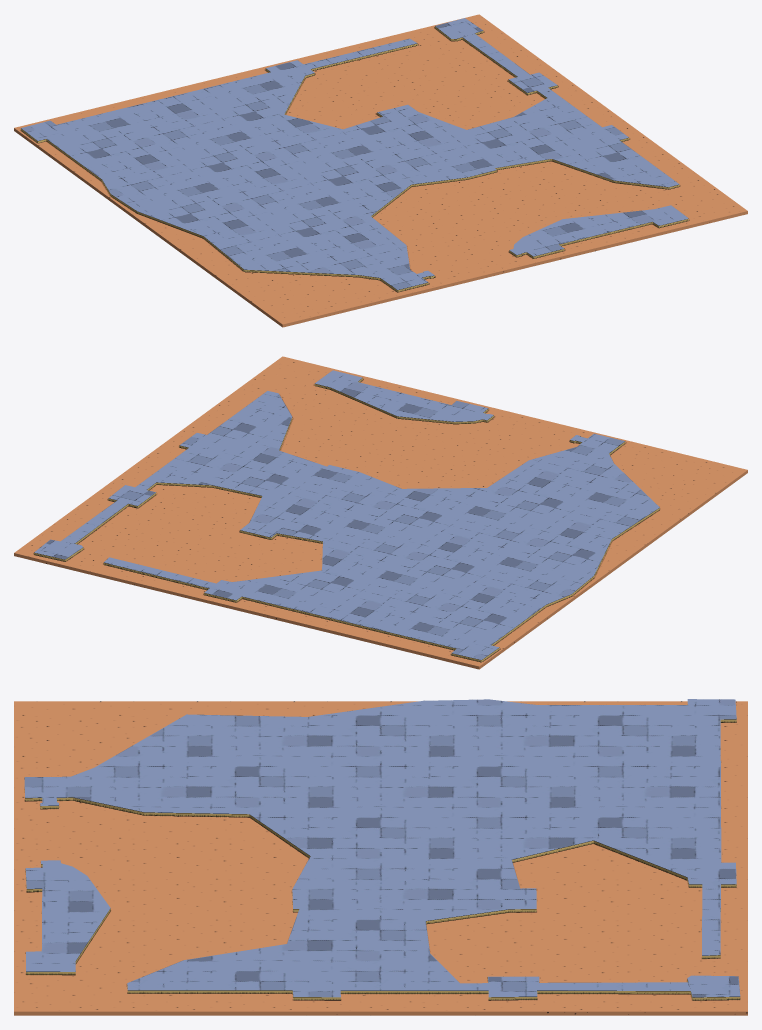
The model's file is floor-tiles-small.glb.
The picture shows the model from 3 angles, top to bottom: view 1: azimuth 30°, elevation 25°; view 2: azimuth 150°, elevation 25°; view 3: azimuth 270°, elevation 25°; orthographic projection. The views are drawn at different scales.
Parts seen in each view (by area): view 1: Floor_Tiles_Small; view 2: Floor_Tiles_Small; view 3: Floor_Tiles_Small.
Part boxes in pixels (x1,y1,x2,y2): Floor_Tiles_Small: [14, 14, 747, 327]; Floor_Tiles_Small: [14, 356, 747, 669]; Floor_Tiles_Small: [14, 699, 747, 1015].
Size of the model in its own units: 16 by 0.1914 by 16.
4 materials, 4 textured.
